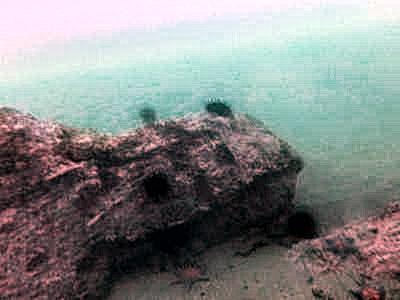urchin: (142, 174, 170, 201), (207, 97, 237, 120), (293, 214, 319, 236)
